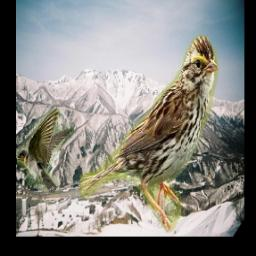Sparrow: (79, 29, 219, 233)
Swallow: (17, 110, 74, 194)
